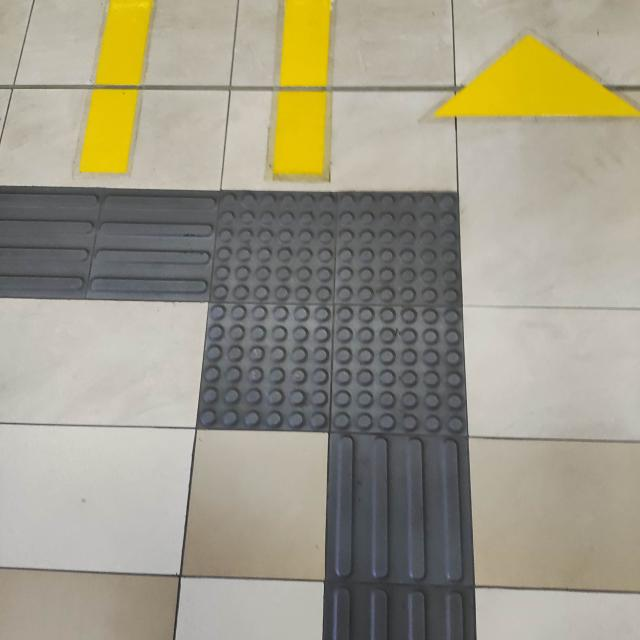kiri: (22, 135, 577, 517)
